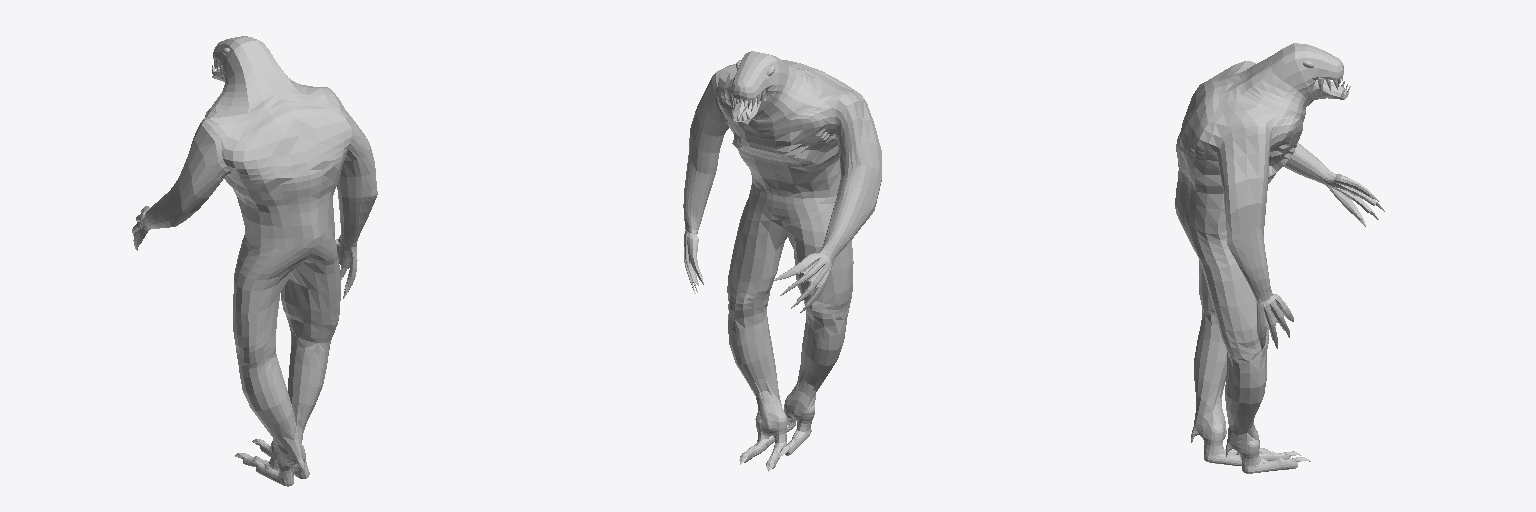
The model's file is Berserkerandar.0086.obj.
3 renders of one model, left to right at view 1: azimuth 30°, elevation 25°; view 2: azimuth 150°, elevation 25°; view 3: azimuth 270°, elevation 25°, orthographic.
Visible parts, largest first — view 1: polySurface27; view 2: polySurface27; view 3: polySurface27.
Boxes of the visible parts, x1,y1,x2,y2 form: polySurface27: [132, 36, 377, 486]; polySurface27: [683, 51, 881, 471]; polySurface27: [1175, 43, 1384, 473].
Bounding box in the file's own units: 11.65 × 24.15 × 11.01.